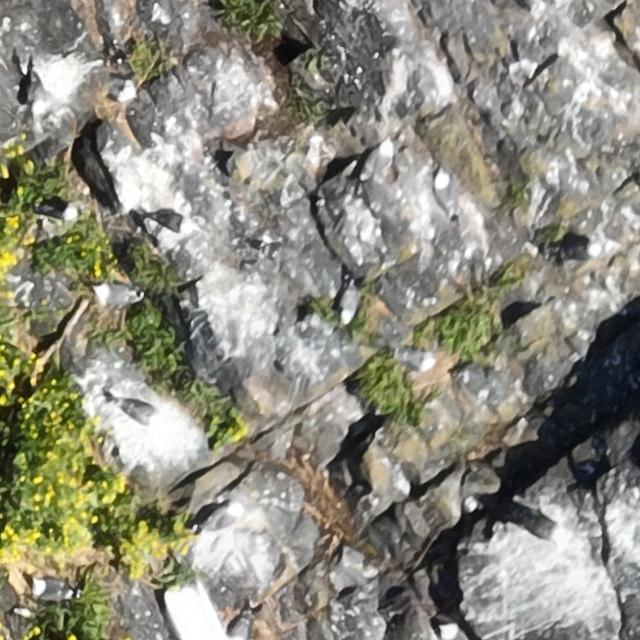umineko: (502, 501, 568, 549), (192, 499, 246, 536), (22, 64, 56, 121), (392, 341, 438, 374), (96, 285, 138, 306), (434, 174, 454, 213), (564, 240, 602, 260), (35, 580, 71, 600), (40, 202, 79, 220), (152, 213, 186, 233), (124, 402, 156, 422), (339, 289, 358, 322), (228, 616, 251, 640)
